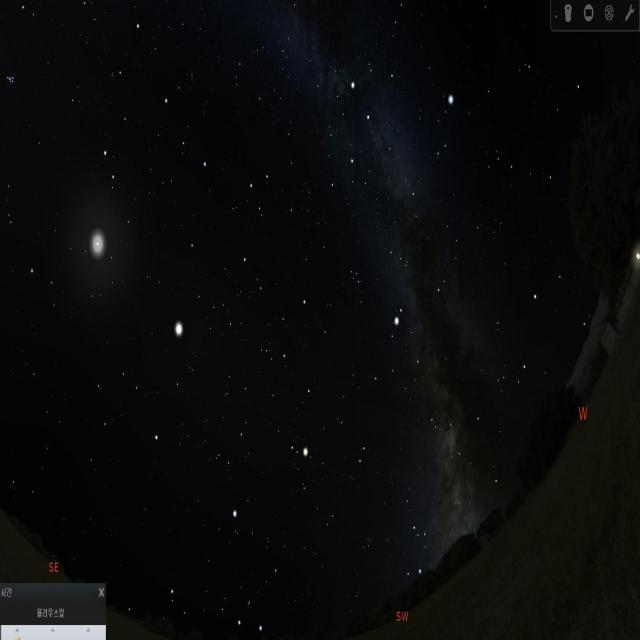aquila: (368, 304, 446, 432)
cygnus: (338, 61, 419, 205)
lyra: (428, 90, 456, 172)
moon: (70, 217, 120, 281)
pleiades: (0, 63, 21, 94)
